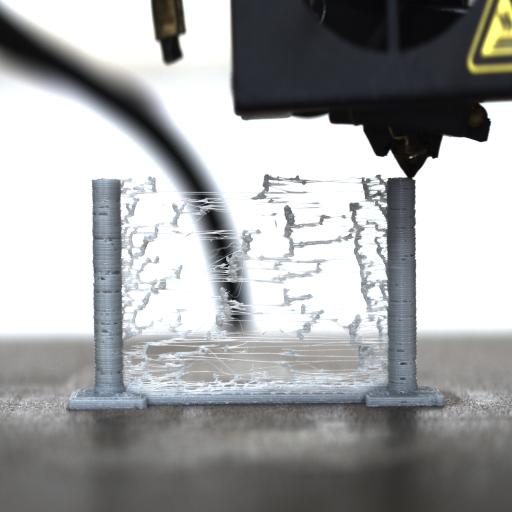stringing: (120, 171, 388, 399)
